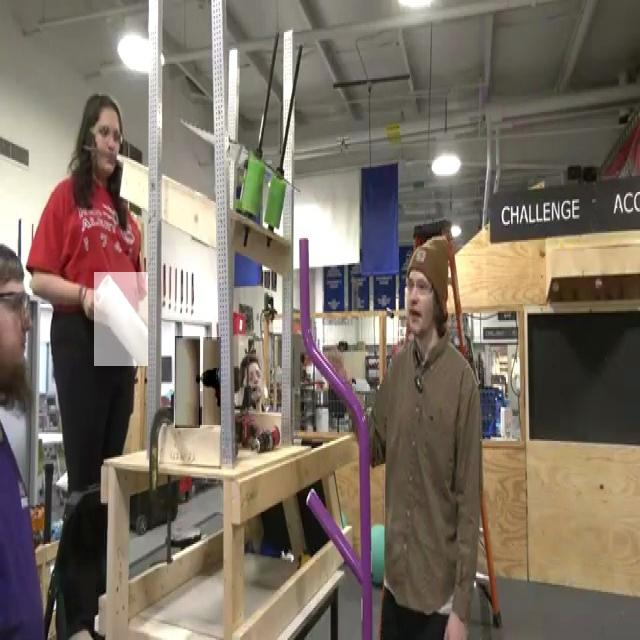Coral: (94, 272, 148, 366), (175, 336, 200, 428), (203, 337, 221, 425)
